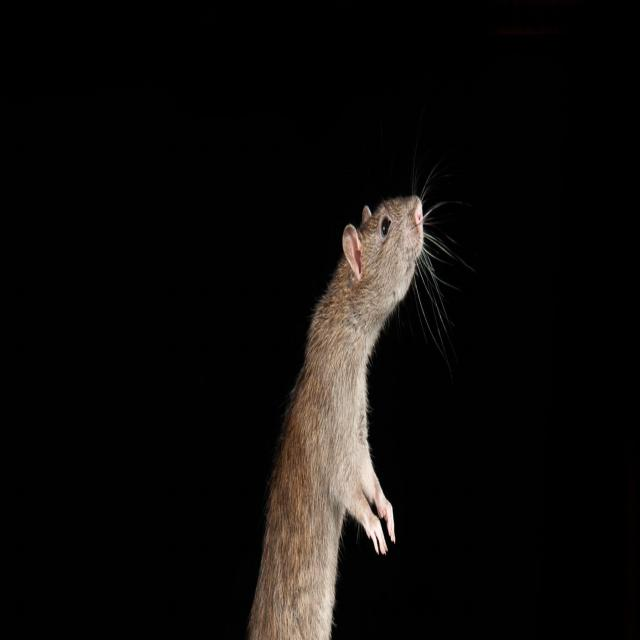rat: (247, 187, 427, 639)
